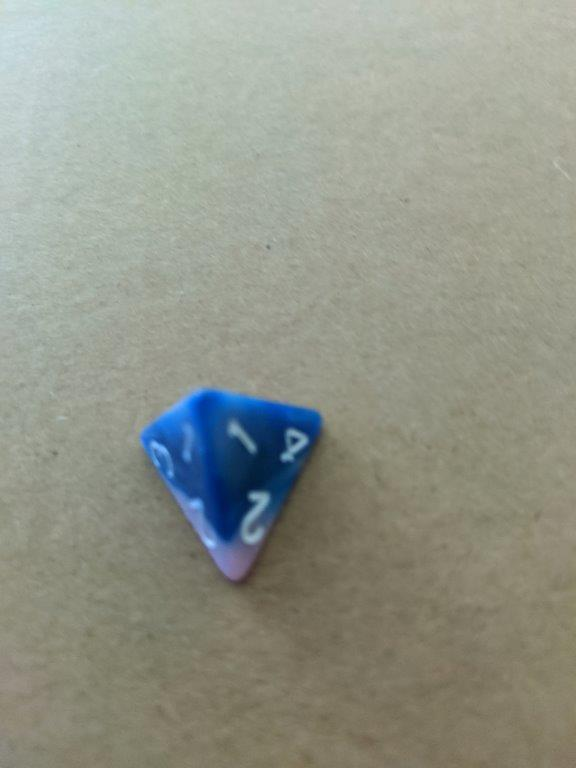d4-1: (134, 383, 325, 587)
